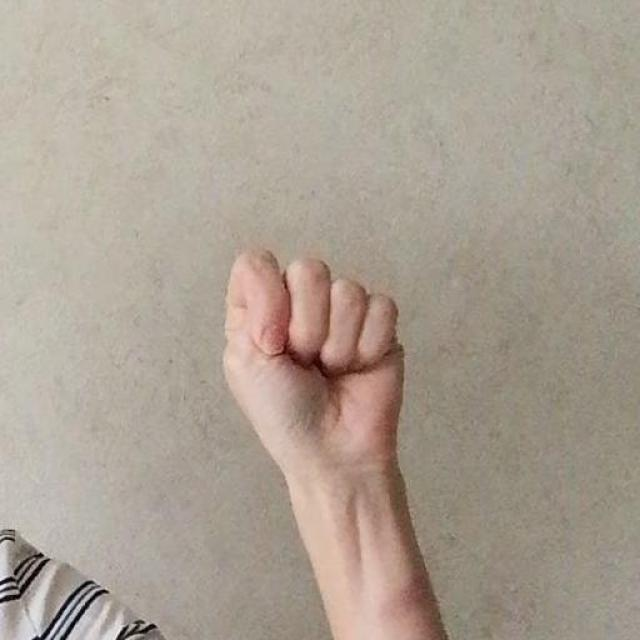hand: (222, 247, 408, 482)
